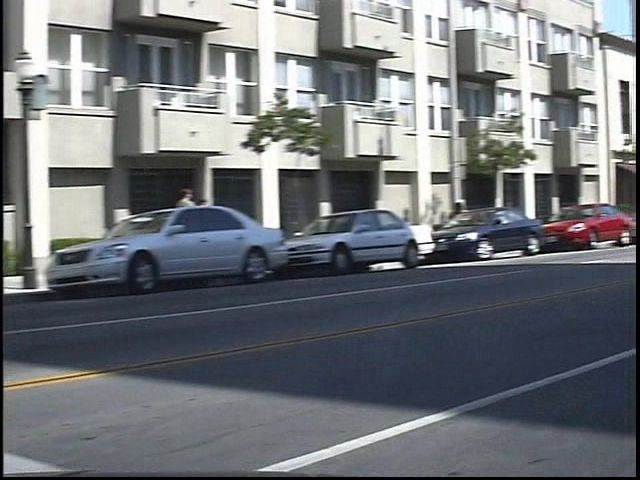person: (189, 182, 213, 261), (209, 193, 229, 257)
